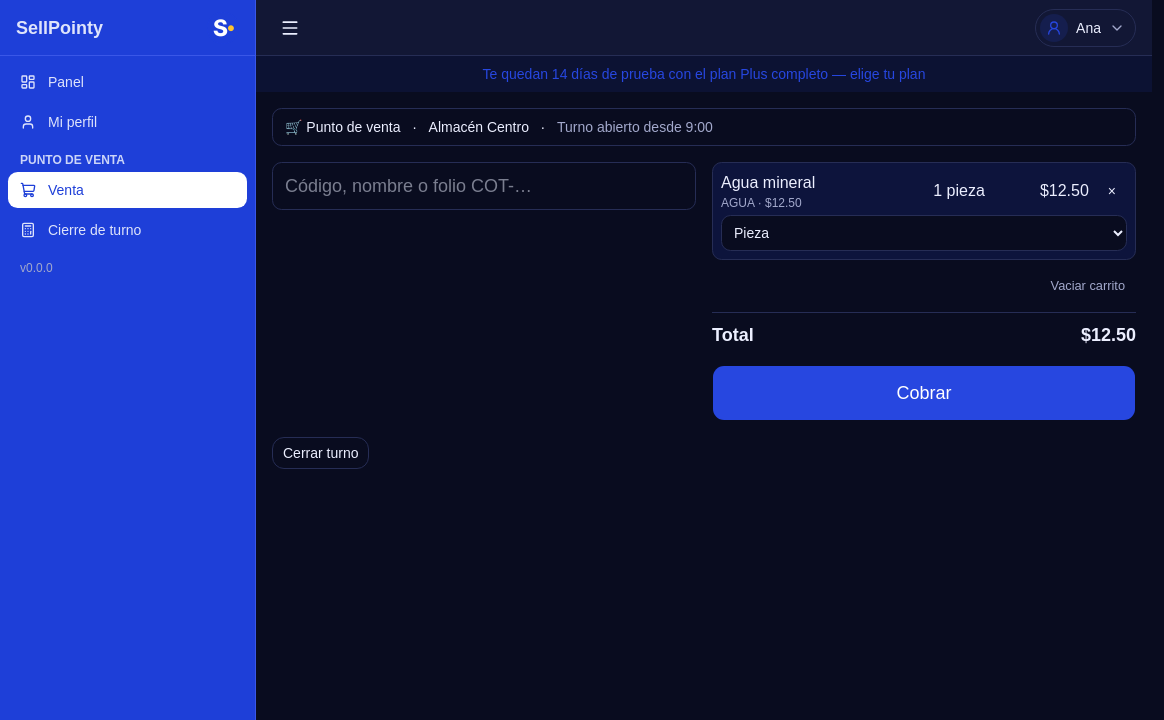
Test: El carrito del POS (F4-CART) › el numpad (F4-CART-03) › tocar el importe abre el teclado
The image size is (1164, 720).
Check: the field named "Buscar" is shown, box top-left (272, 162), bottom-right (696, 210)
Check: the text "Agua mineral" is shown, box top-left (721, 174), bottom-right (815, 191)
Click the button "$12.50".
click(1041, 191)  # box top-left (993, 179), bottom-right (1089, 203)
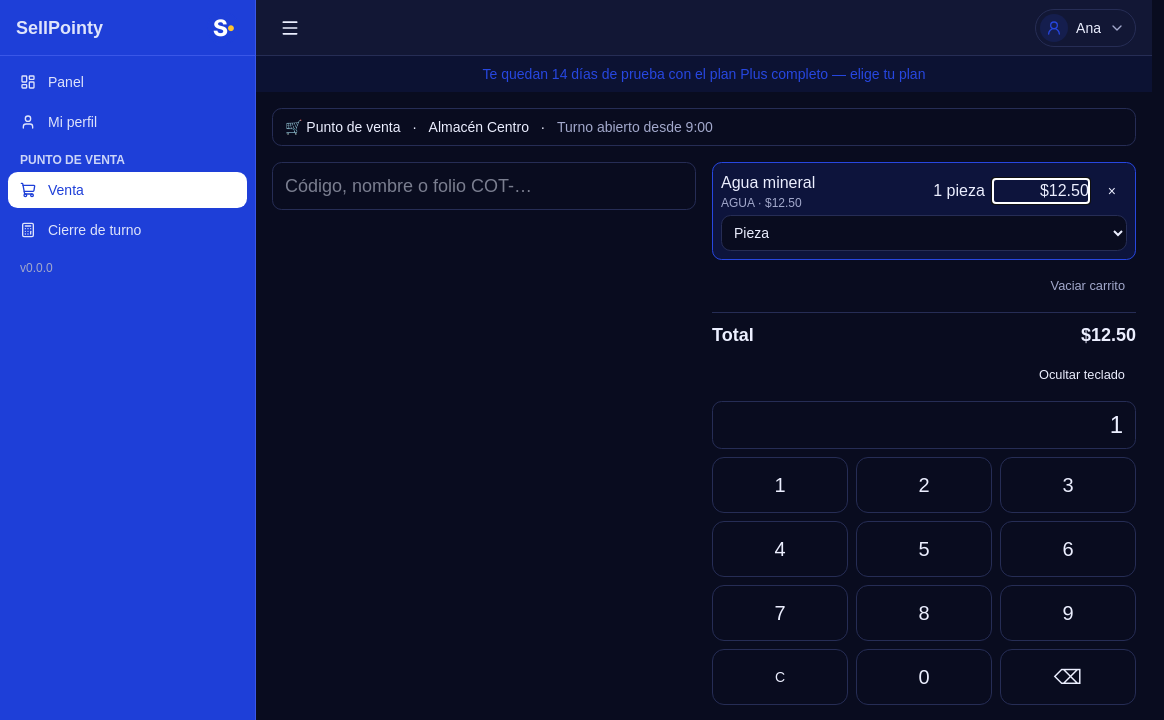
Check: the element with test id "numpad" is shown, box top-left (712, 401), bottom-right (1136, 705)
